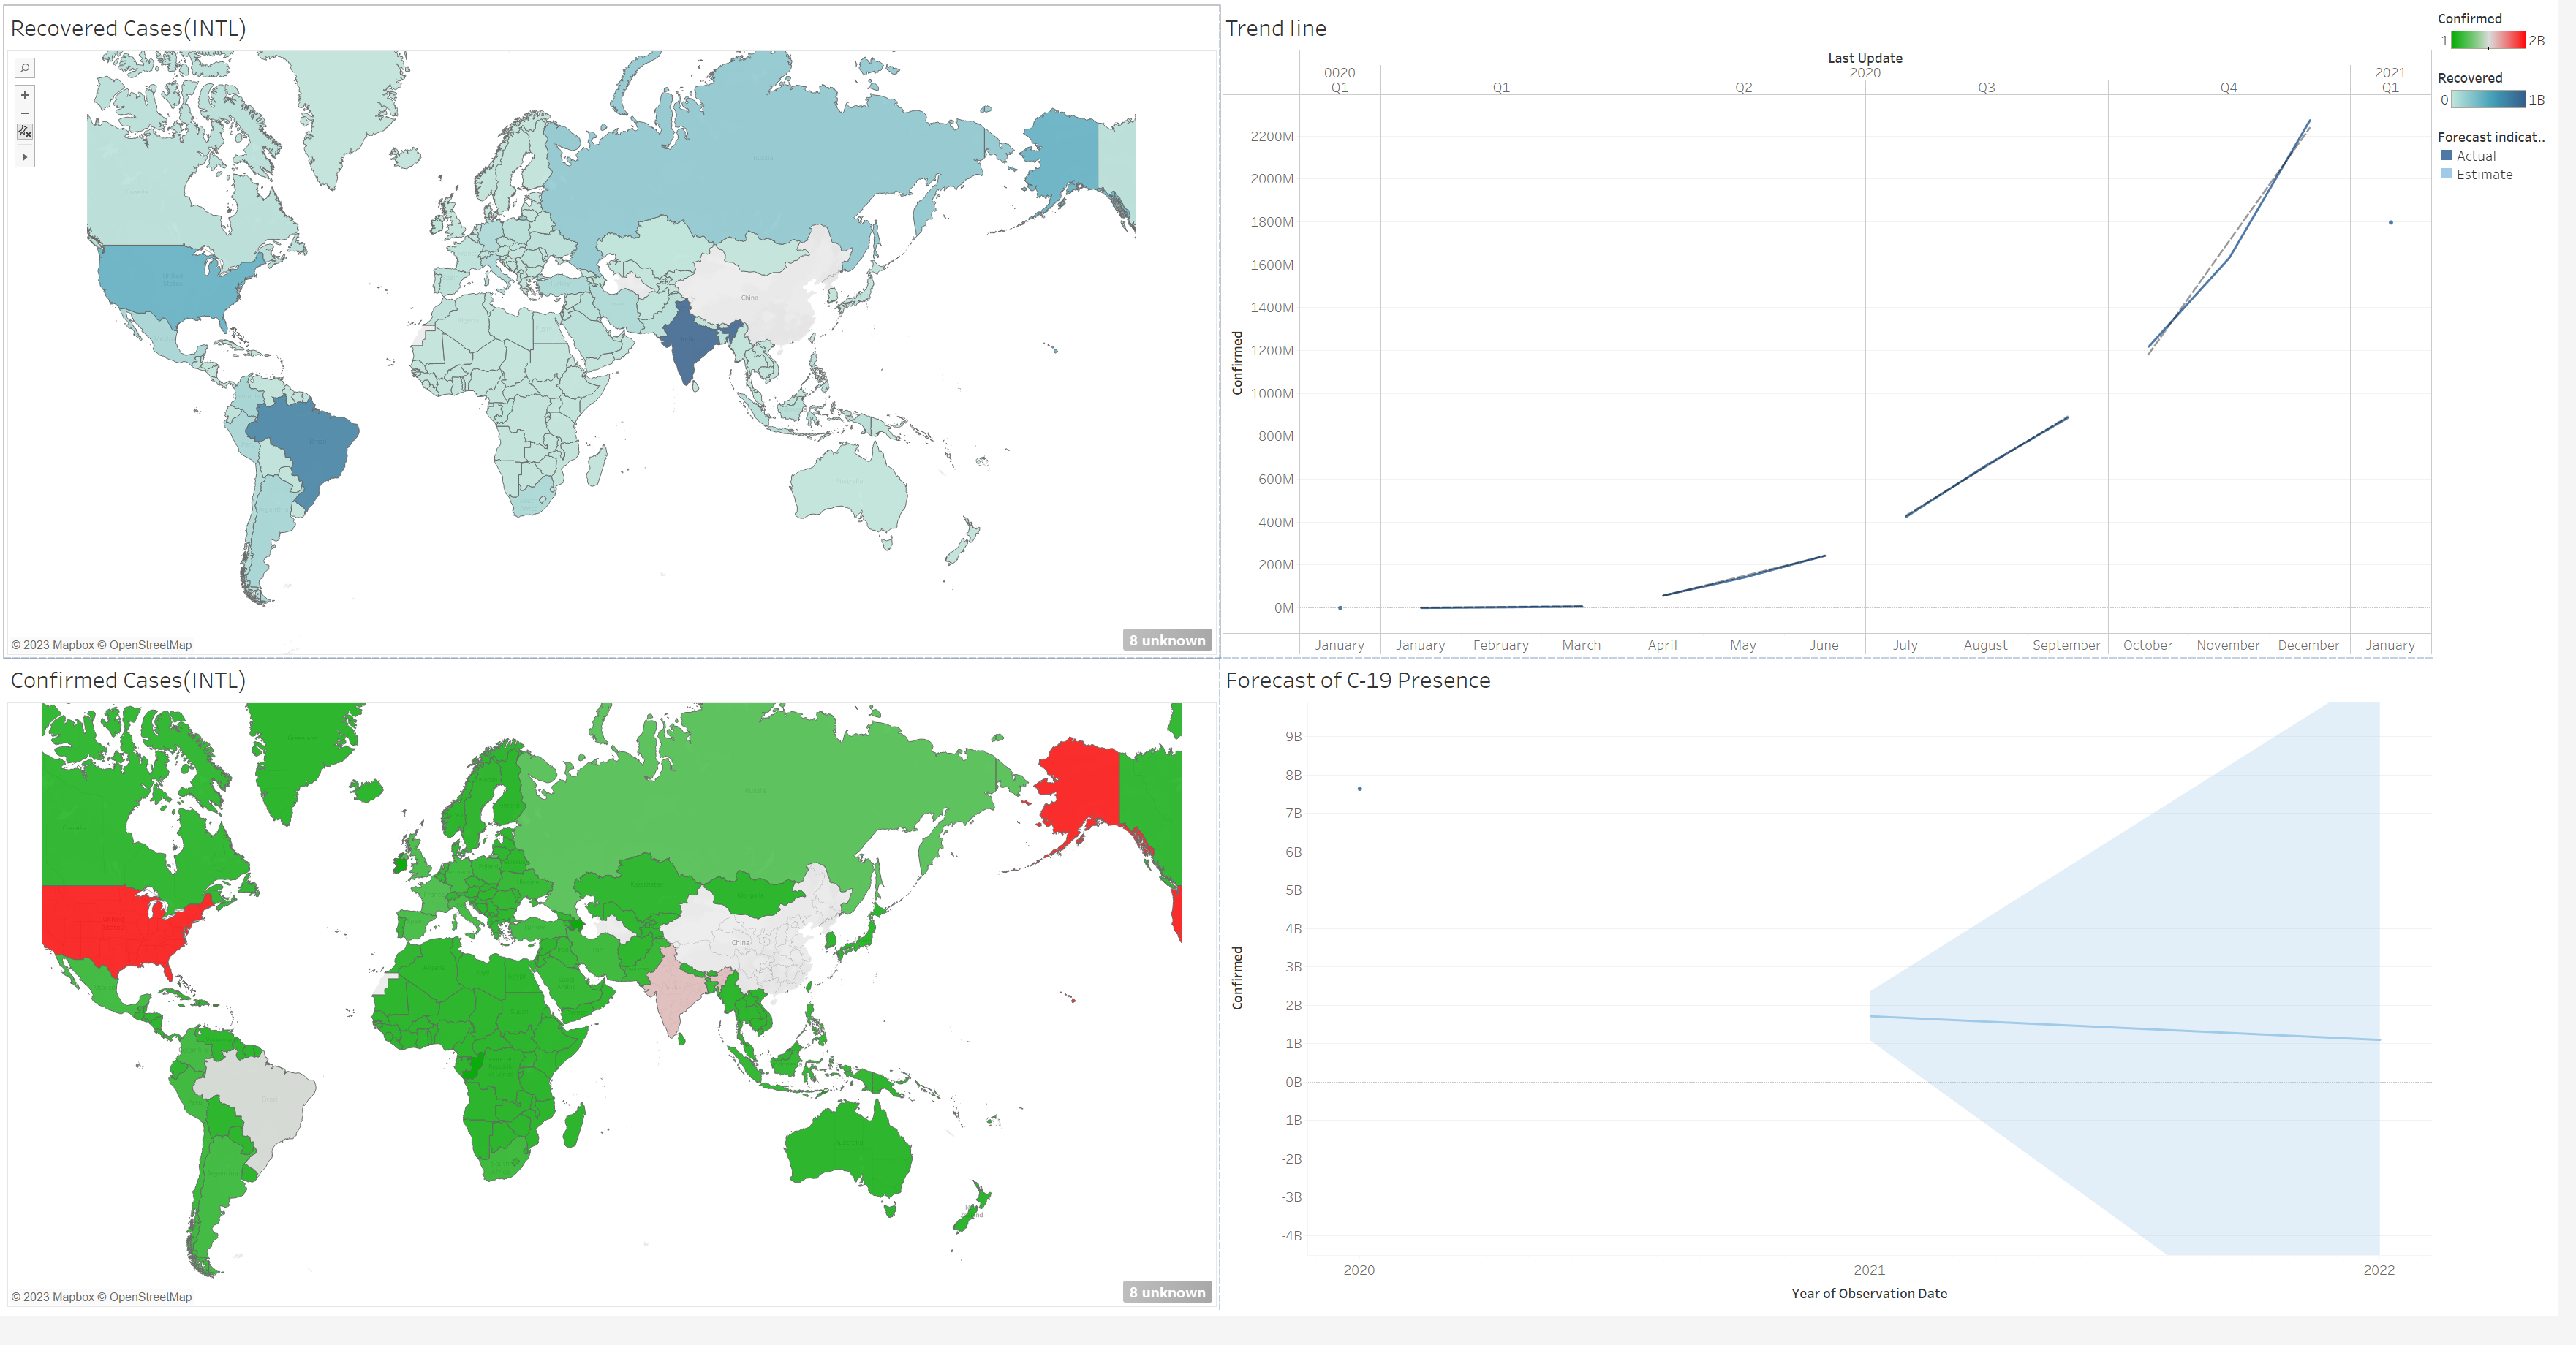

What the dashboard file says about the page in this screenshot:
{"tool":"tableau","page":{"name":"Dashboard 1","canvas":[1600,1500],"ordinal":0},"visuals":[{"type":"worksheet","title":"Recovered Cases(INTL)","mark":"Automatic","box":[8,8,712,742]},{"type":"worksheet","title":"Trend line","mark":"Line","rows":["Confirmed"],"cols":["Last Update","Last Update","Last Update"],"box":[720,8,712,742]},{"type":"legend","title":"Confirmed Cases(INTL)","param":"[federated.0jkkceg0sgwnt717wtto51ecykni].[sum:Confirmed:qk]","box":[1432,8,160,81]},{"type":"legend","title":"Recovered Cases(INTL)","param":"[federated.0jkkceg0sgwnt717wtto51ecykni].[sum:Recovered:qk]","box":[1432,89,160,81]},{"type":"legend","title":"Forecast of C-19 Presence","param":"[federated.0jkkceg0sgwnt717wtto51ecykni].[none:Forecast Indicator:nk]","box":[1432,170,160,84]},{"type":"worksheet","title":"Confirmed Cases(INTL)","mark":"Automatic","box":[8,750,712,742]},{"type":"worksheet","title":"Forecast of C-19 Presence","mark":"Automatic","rows":["Confirmed"],"cols":["ObservationDate"],"box":[720,750,712,742]}]}

Visuals, with their boxes on the page's 1600x1500 design canvas (x1, y1, x2, y2). These are canvas units, not pixel positions in the 2576x1345 screenshot, which may show the page scaled, cropped or inside an application window:
"Recovered Cases(INTL)" worksheet: rect(8, 8, 720, 750)
"Trend line" worksheet (Line marks): rect(720, 8, 1432, 750)
"Confirmed Cases(INTL)" legend: rect(1432, 8, 1592, 89)
"Recovered Cases(INTL)" legend: rect(1432, 89, 1592, 170)
"Forecast of C-19 Presence" legend: rect(1432, 170, 1592, 254)
"Confirmed Cases(INTL)" worksheet: rect(8, 750, 720, 1492)
"Forecast of C-19 Presence" worksheet: rect(720, 750, 1432, 1492)
